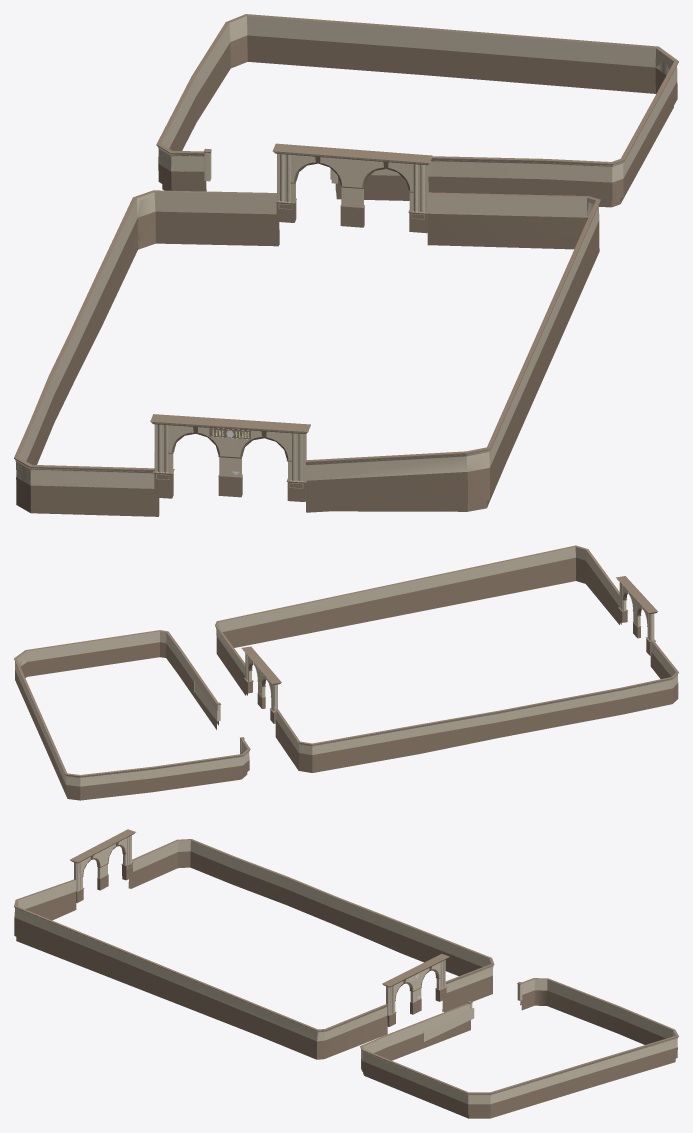
The model's file is s_movie_studio_fences.dae.
3 renders of one model, top to bottom at view 1: azimuth 30°, elevation 25°; view 2: azimuth 150°, elevation 25°; view 3: azimuth 270°, elevation 25°, orthographic. The views are drawn at different scales.
Parts seen in each view (by area): view 1: s_moviestudio_fences_L30, s_moviestudio_fences_L2000, s_moviestudio_fences_L1000; view 2: s_moviestudio_fences_L30, s_moviestudio_fences_L2000, s_moviestudio_fences_L1000; view 3: s_moviestudio_fences_L2000, s_moviestudio_fences_L30, s_moviestudio_fences_L1000.
Boxes of the visible parts, <box> form: s_moviestudio_fences_L30: <box>15,14,678,515</box>; s_moviestudio_fences_L2000: <box>14,16,678,516</box>; s_moviestudio_fences_L1000: <box>16,15,674,512</box>; s_moviestudio_fences_L30: <box>16,546,678,791</box>; s_moviestudio_fences_L2000: <box>14,545,678,800</box>; s_moviestudio_fences_L1000: <box>15,566,652,782</box>; s_moviestudio_fences_L2000: <box>14,829,678,1118</box>; s_moviestudio_fences_L30: <box>14,833,678,1104</box>; s_moviestudio_fences_L1000: <box>20,834,677,1090</box>.
Bounding box in the file's own units: 175 × 193 × 23.79.
